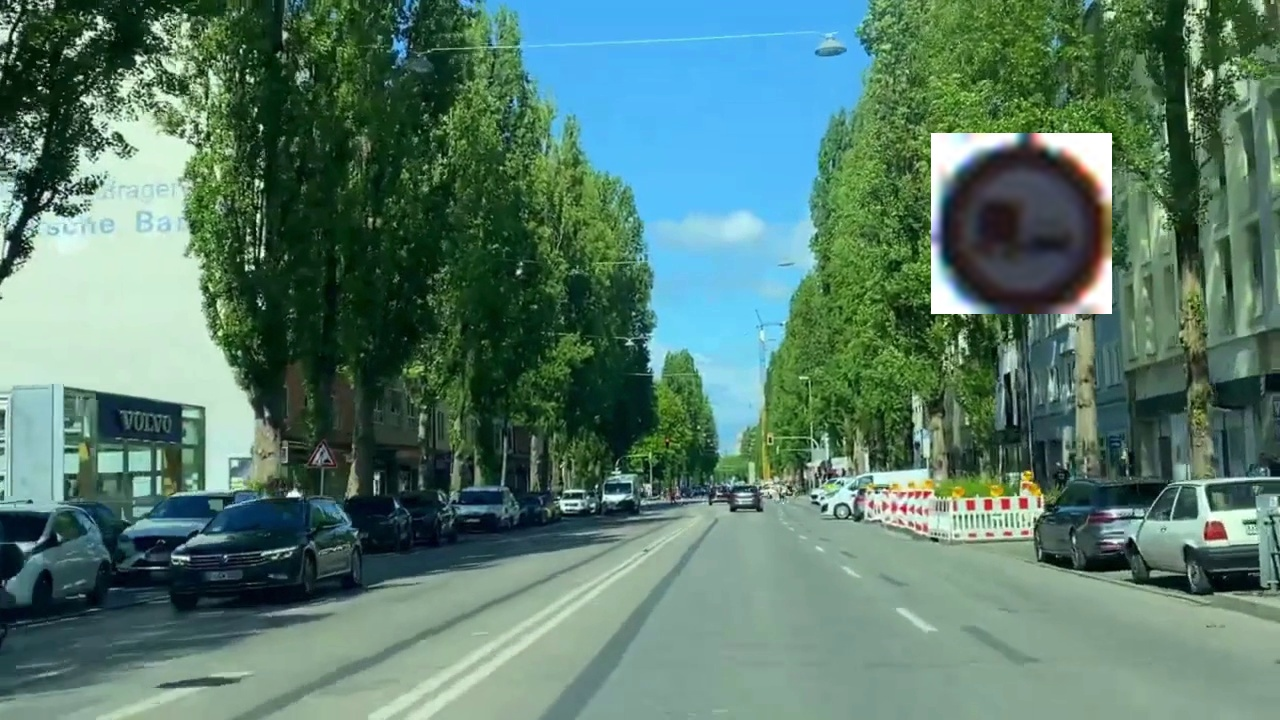No pass >3.5t: (931, 133, 1112, 314)
